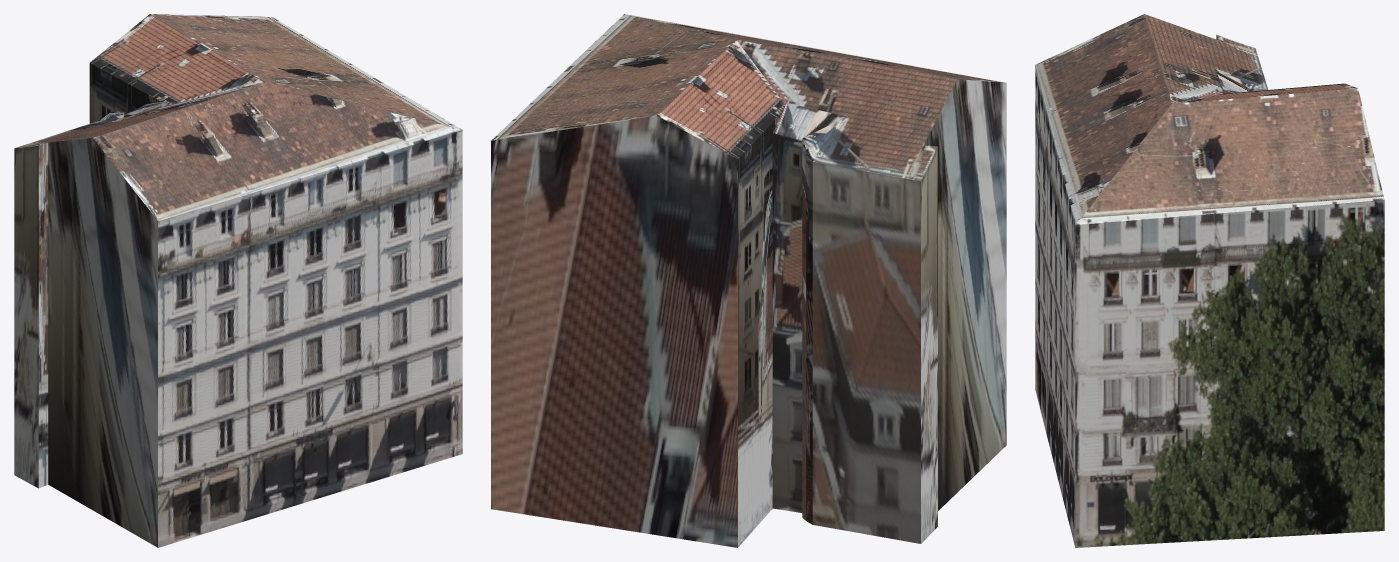
The picture shows the model from 3 angles, left to right: view 1: azimuth 30°, elevation 25°; view 2: azimuth 150°, elevation 25°; view 3: azimuth 270°, elevation 25°; orthographic projection. The views are drawn at different scales.
Parts seen in each view (by area): view 1: Z_UP; view 2: Z_UP; view 3: Z_UP.
Part boxes in pixels (box(x1,y1,x2,y2)): Z_UP: box(14, 14, 462, 547); Z_UP: box(491, 14, 1006, 547); Z_UP: box(1035, 14, 1384, 547).
Size of the model in its own units: 26.68 by 26.91 by 22.62.
Materials: 2 (1 with a texture image).
